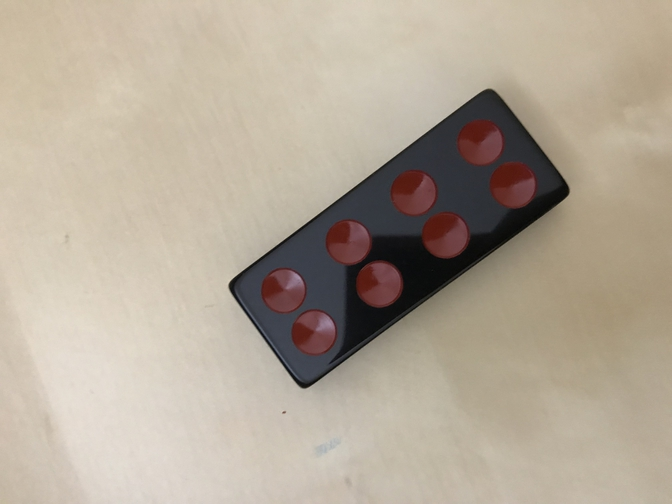man: (227, 86, 571, 391)
